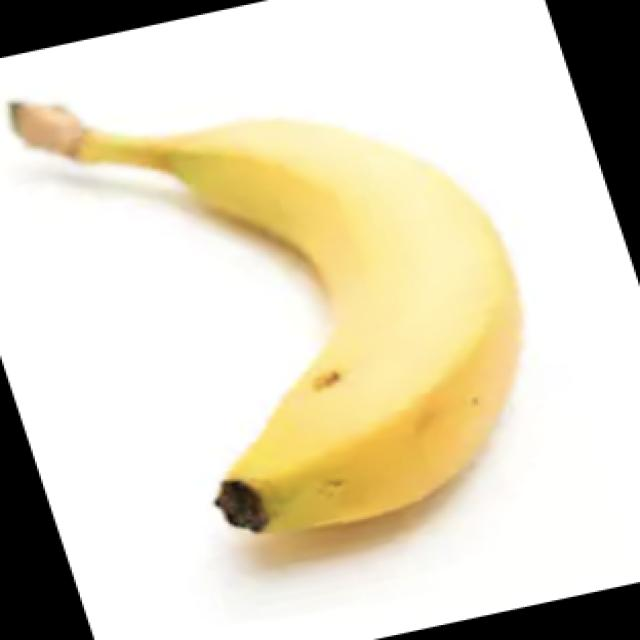god quality banana: (12, 103, 521, 533)
